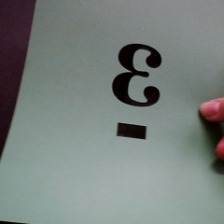green3: (109, 36, 163, 142)
